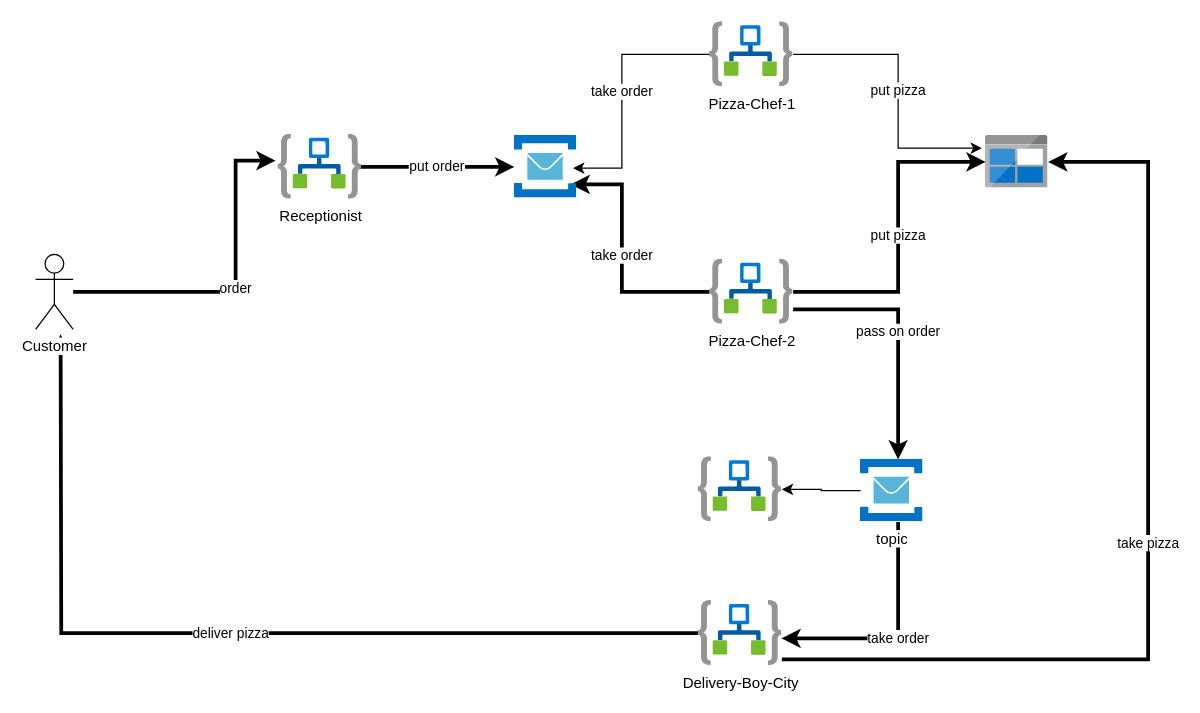
The diagram is 1200 pixels wide and 713 high, and some of its shapes have lost their labels. The centre of each missing label's shape, as x and y in pixels:
Delivery-Boy-Suburbs: point 739,488
queue: point 545,166
Thermo-Box: point 1016,161
